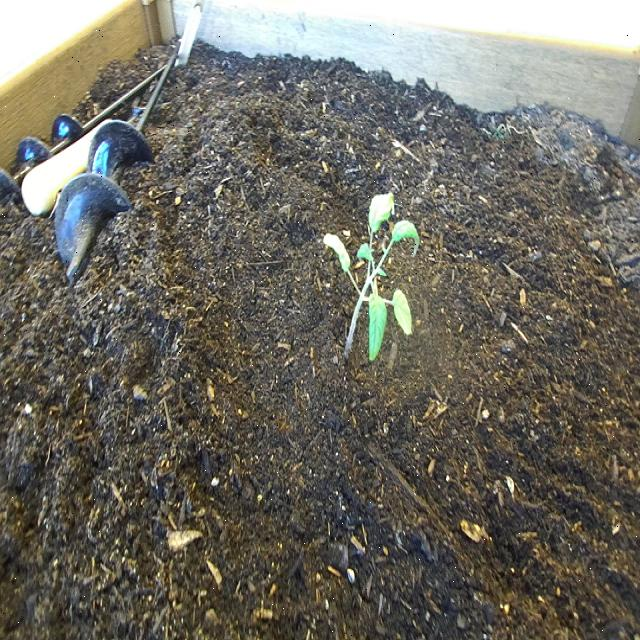Healthy: (320, 188, 424, 376)
